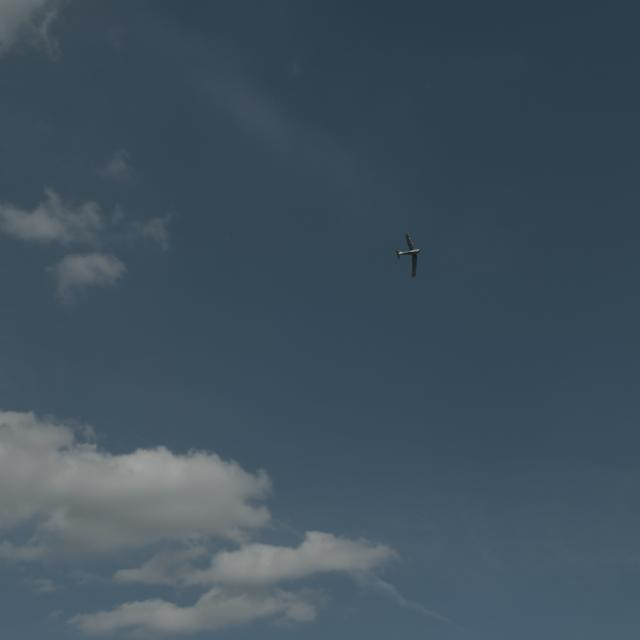Airaplan: (396, 233, 421, 278)
